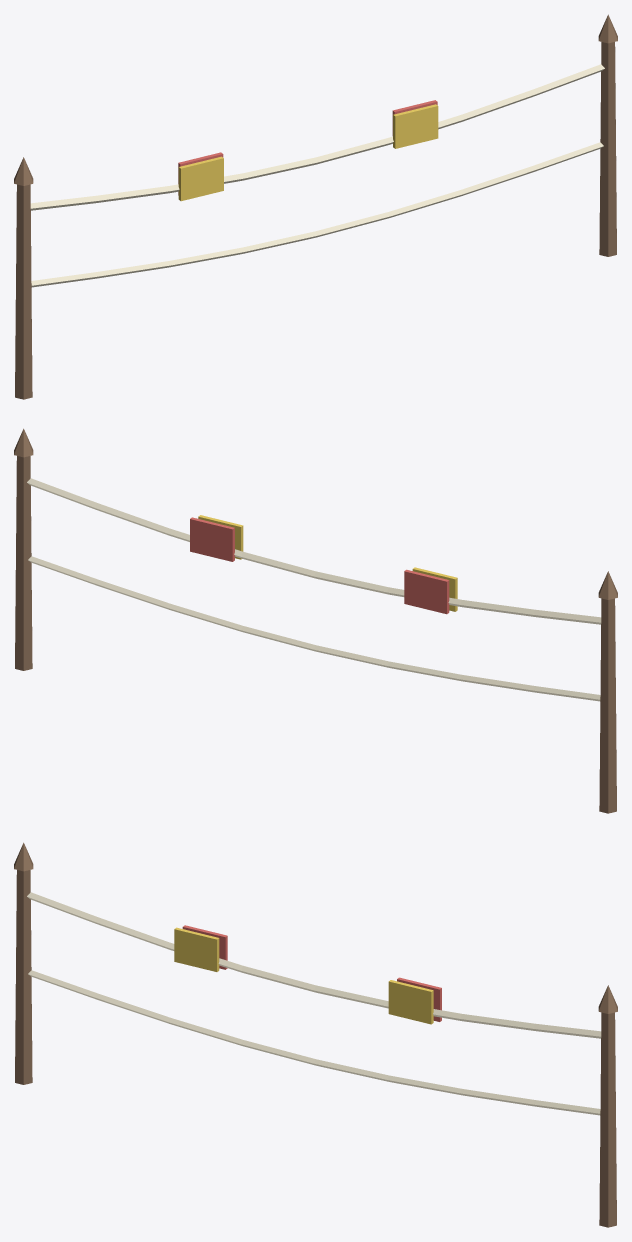
The model's file is hot-air-balloon-festival-rope-and-stake-perimeter-665cd034__38510.glb.
3 renders of one model, top to bottom at view 1: azimuth 30°, elevation 25°; view 2: azimuth 150°, elevation 25°; view 3: azimuth 330°, elevation 25°, orthographic.
Visible parts, largest first — view 1: rope-and-stake-perimeter-rope, rope-and-stake-perimeter-leather, rope-and-stake-perimeter-canvasD; view 2: rope-and-stake-perimeter-rope, rope-and-stake-perimeter-leather, rope-and-stake-perimeter-canvasA, rope-and-stake-perimeter-canvasD; view 3: rope-and-stake-perimeter-rope, rope-and-stake-perimeter-leather, rope-and-stake-perimeter-canvasD, rope-and-stake-perimeter-canvasA.
Part boxes in pixels (x1,y1,x2,y2): rope-and-stake-perimeter-rope: (30,64,604,287); rope-and-stake-perimeter-leather: (14,14,617,399); rope-and-stake-perimeter-canvasD: (178,104,438,201); rope-and-stake-perimeter-rope: (27,478,601,701); rope-and-stake-perimeter-leather: (14,428,617,813); rope-and-stake-perimeter-canvasA: (190,517,449,614); rope-and-stake-perimeter-canvasD: (198,515,457,611); rope-and-stake-perimeter-rope: (27,892,601,1115); rope-and-stake-perimeter-leather: (14,842,617,1227); rope-and-stake-perimeter-canvasD: (174,927,433,1024); rope-and-stake-perimeter-canvasA: (182,925,441,1021).
Bounding box in the file's own units: 3.1 × 1.17 × 0.0867.
